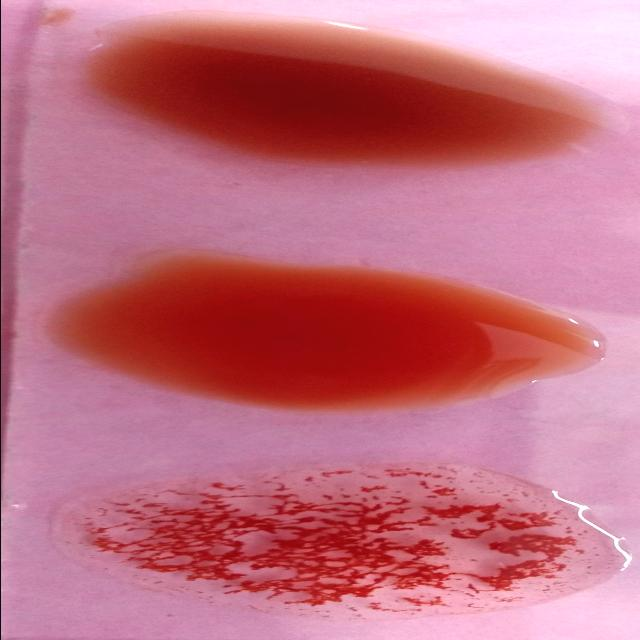D: (45, 465, 606, 611)
